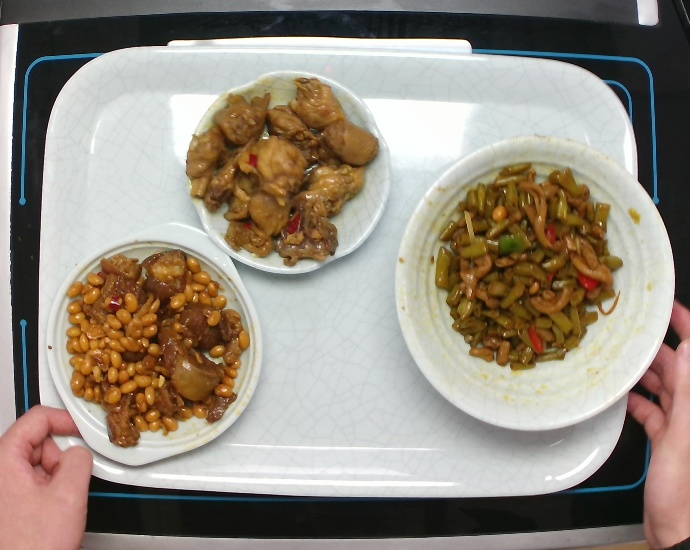JYsf-Ao_Yuan_Wan: (186, 73, 391, 276)
JYsf-Shuang_Er_Pan: (49, 224, 267, 468)
JYsf-Xiao_Tang_Wan: (392, 140, 681, 433)
